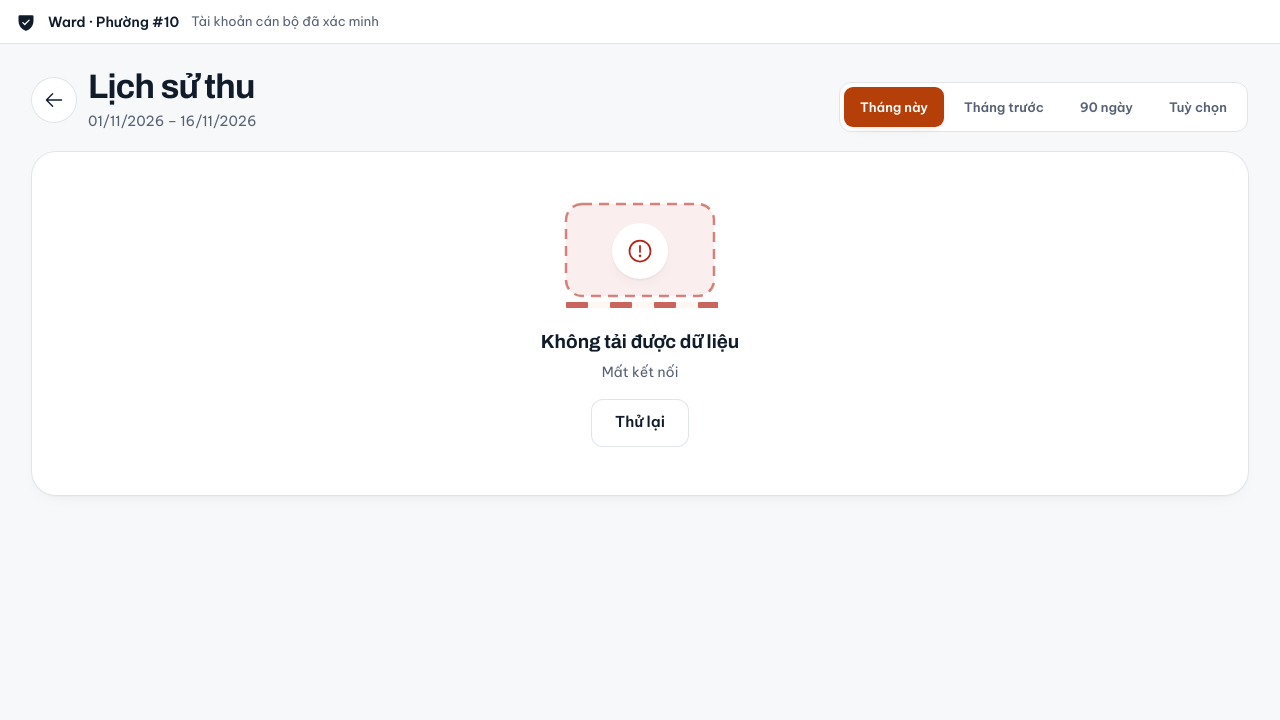
Ward receipt history › shows a failed read with a way to try again
This screenshot has width=1280, height=720.
Click the button "Thử lại".
click(640, 423)  # box x1=591 y1=399 x2=689 y2=447
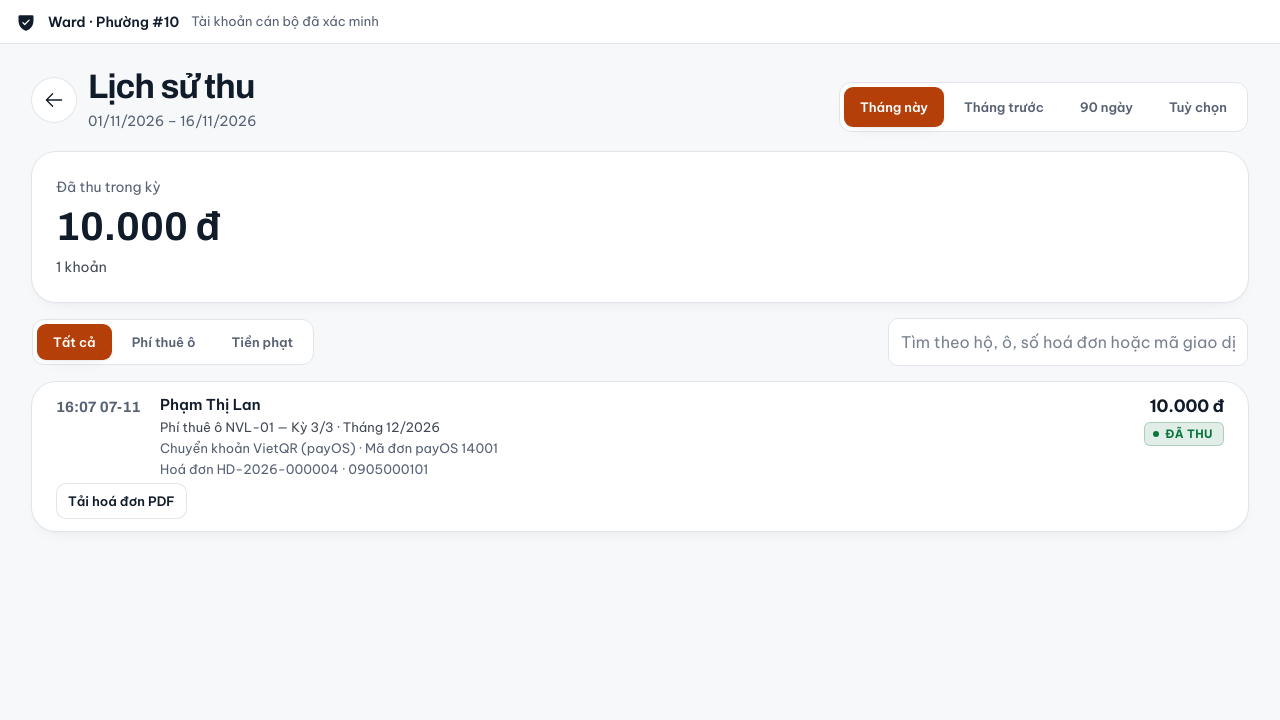
Now the text "Phạm Thị Lan" is shown, box x1=160 y1=395 x2=260 y2=414
